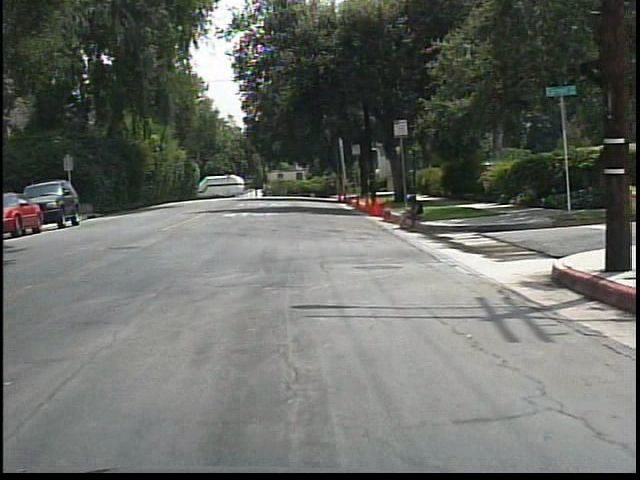person: (392, 191, 426, 236)
